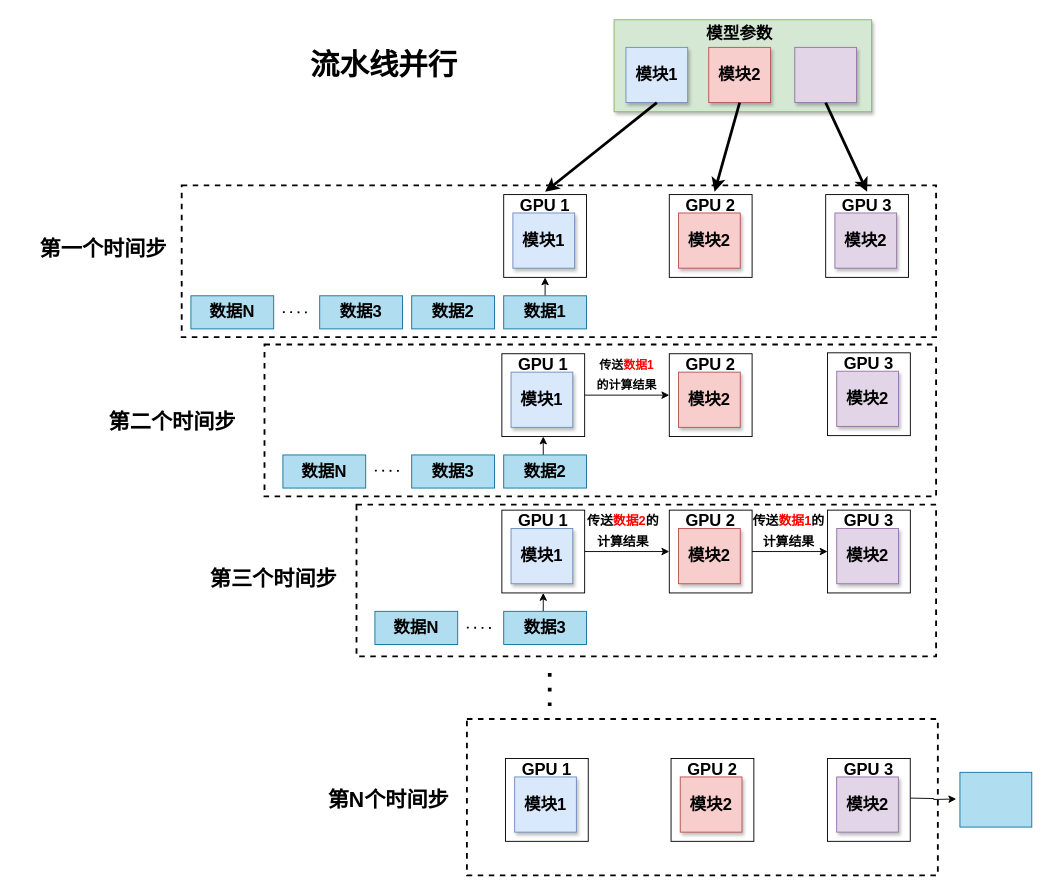
The diagram is 1052 pixels wide and 892 high, and some of its shapes have lost their labels. The shapes that lost their labels are listed below. From the top down, each one's centre as x and y in pixels, then its label:
At point (826, 76): "模块3".
At point (995, 799): "数据N的计算结果".
